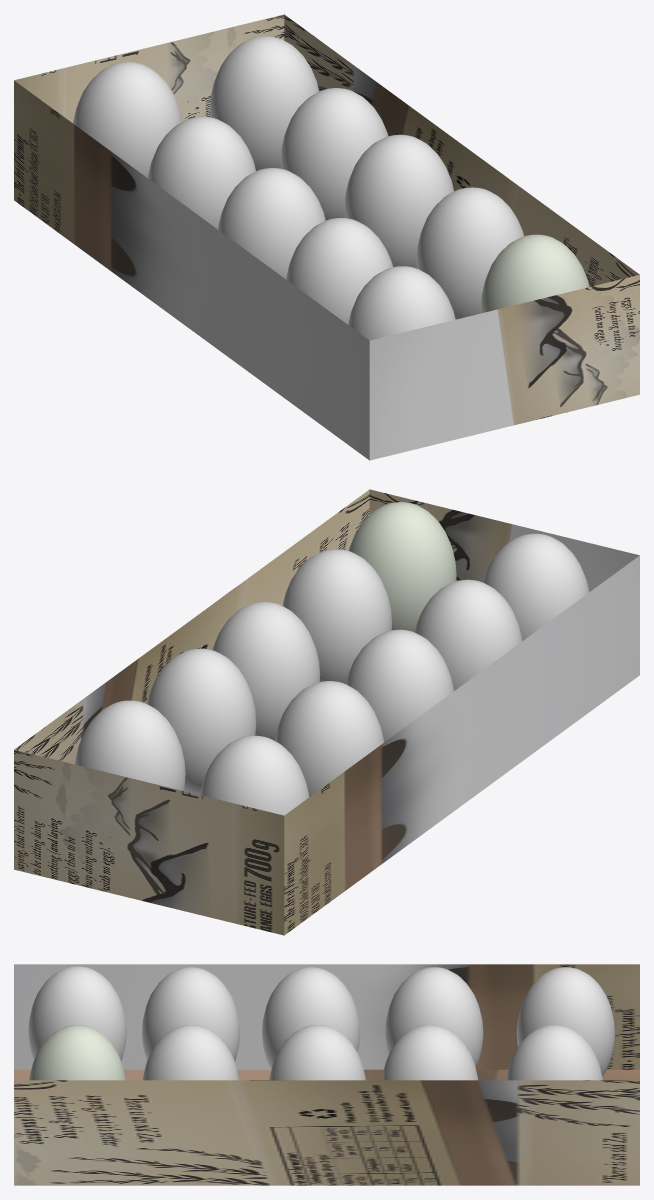
File: EGGS 2.fbx
3 renders of one model, top to bottom at view 1: azimuth 30°, elevation 25°; view 2: azimuth 150°, elevation 25°; view 3: azimuth 270°, elevation 25°, orthographic. The views are drawn at different scales.
Parts seen in each view (by area): view 1: Cube, Sphere.004, Sphere.006, Sphere.002, Sphere.005, Sphere.009, Sphere.008, Sphere.007, Sphere.003, Sphere, Sphere.001; view 2: Cube, Sphere.002, Sphere.005, Sphere.004, Sphere, Sphere.008, Sphere.007, Sphere.003, Sphere.006, Sphere.001, Sphere.009; view 3: Cube, Sphere.009, Sphere.001, Sphere.007, Sphere.008, Sphere.003, Sphere, Sphere.004, Sphere.006, Sphere.002, Sphere.005.
Part boxes in pixels (left/top/right/bottom): Cube: left=14, top=14, right=639, bottom=460; Sphere.004: left=344, top=134, right=453, bottom=268; Sphere.006: left=210, top=36, right=319, bottom=170; Sphere.002: left=416, top=187, right=523, bottom=319; Sphere.005: left=280, top=88, right=388, bottom=220; Sphere.009: left=73, top=62, right=182, bottom=177; Sphere.008: left=148, top=116, right=255, bottom=229; Sphere.007: left=218, top=168, right=325, bottom=278; Sphere.003: left=286, top=218, right=392, bottom=324; Sphere: left=481, top=234, right=589, bottom=313; Sphere.001: left=348, top=266, right=455, bottom=340; Cube: left=14, top=489, right=639, bottom=935; Sphere.002: left=282, top=549, right=392, bottom=683; Sphere.005: left=147, top=648, right=256, bottom=794; Sphere.004: left=212, top=602, right=320, bottom=740; Sphere: left=349, top=502, right=456, bottom=632; Sphere.008: left=275, top=681, right=384, bottom=796; Sphere.007: left=346, top=629, right=454, bottom=741; Sphere.003: left=414, top=579, right=522, bottom=690; Sphere.006: left=75, top=700, right=185, bottom=790; Sphere.001: left=483, top=533, right=589, bottom=640; Sphere.009: left=200, top=735, right=309, bottom=815; Cube: left=14, top=964, right=639, bottom=1185; Sphere.009: left=516, top=967, right=614, bottom=1076; Sphere.001: left=28, top=966, right=126, bottom=1060; Sphere.007: left=262, top=967, right=360, bottom=1070; Sphere.008: left=385, top=967, right=483, bottom=1067; Sphere.003: left=141, top=967, right=239, bottom=1061; Sphere: left=29, top=1025, right=125, bottom=1080; Sphere.004: left=269, top=1025, right=365, bottom=1080; Sphere.006: left=506, top=1025, right=602, bottom=1080; Sphere.002: left=142, top=1025, right=239, bottom=1080; Sphere.005: left=381, top=1025, right=478, bottom=1080.
Size of the model in its own units: 0.8777 by 0.4591 by 2.
2 materials, 1 textured.
